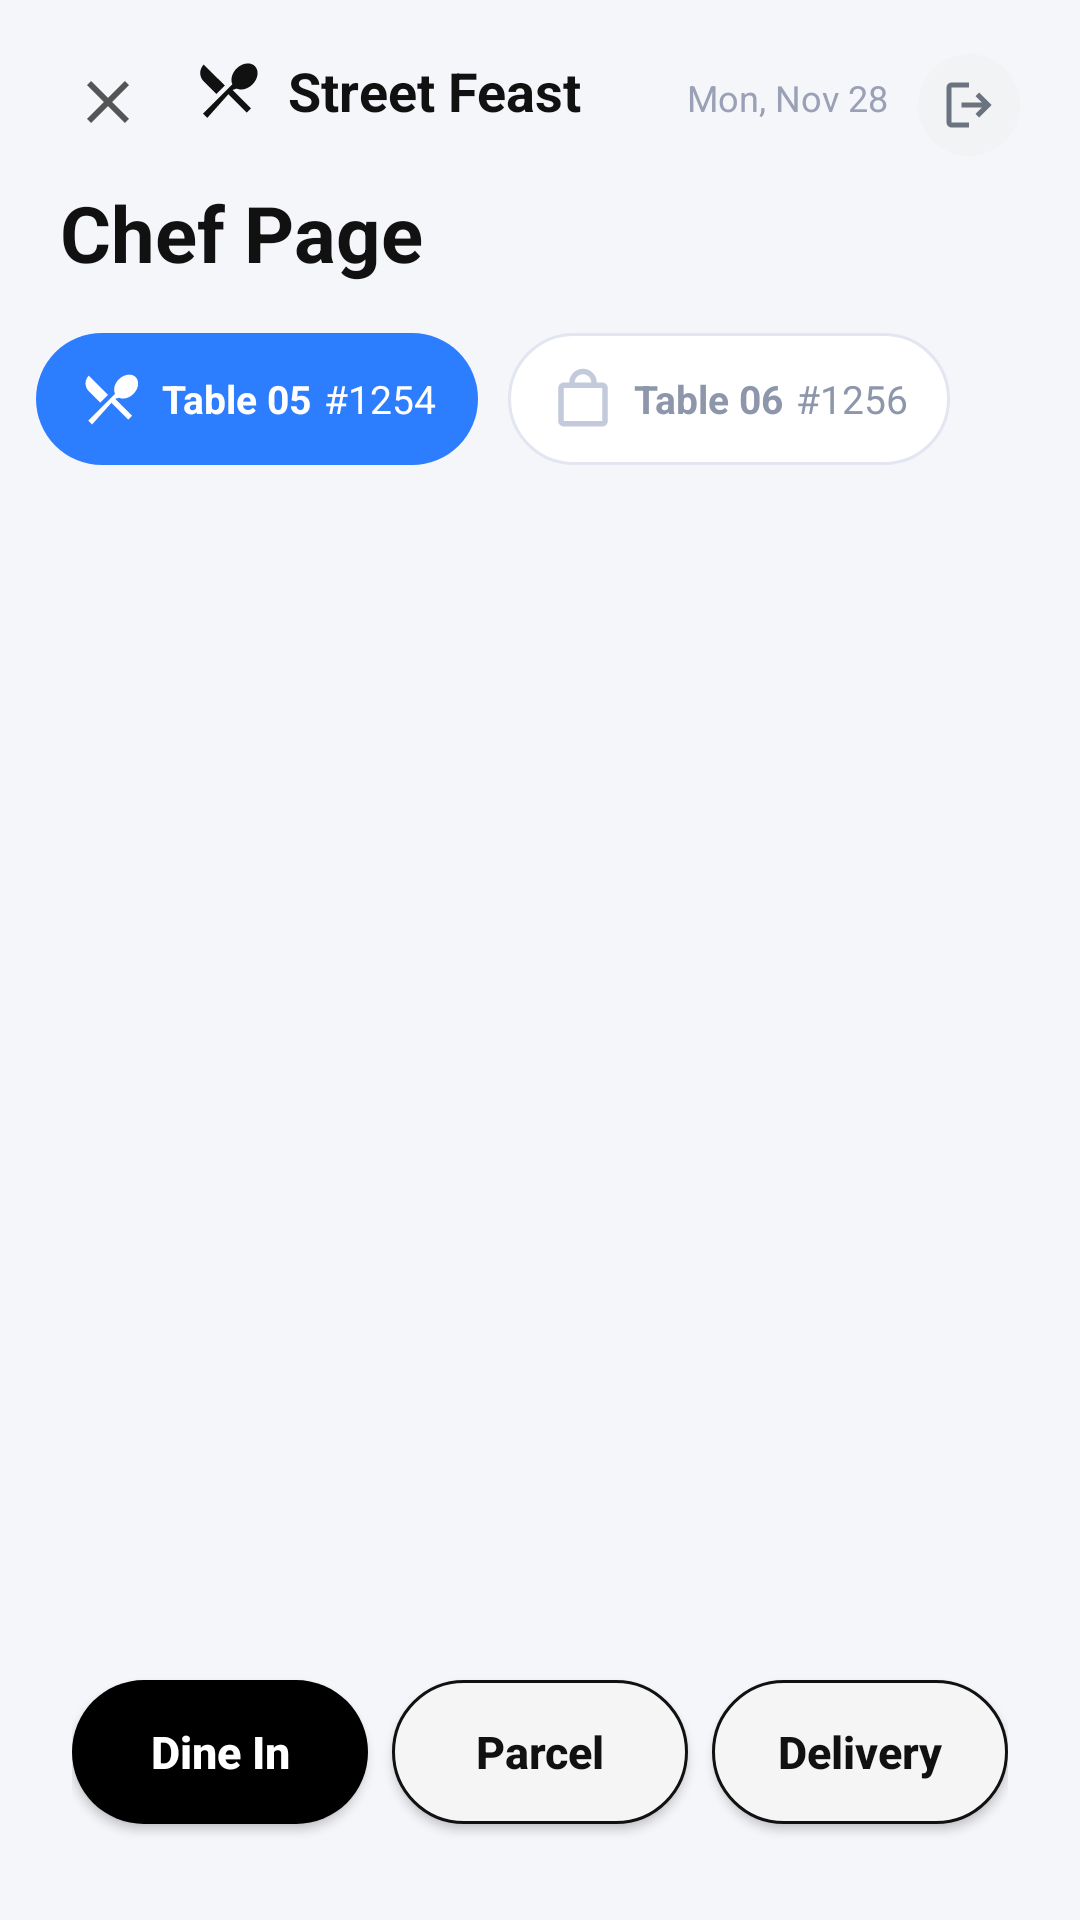

Locate icon controls on the screen. Image size 1080*1920, boxes as box(x1, y1, x2, y2).
bag: box(558, 369, 608, 427)
close: box(87, 81, 129, 123)
